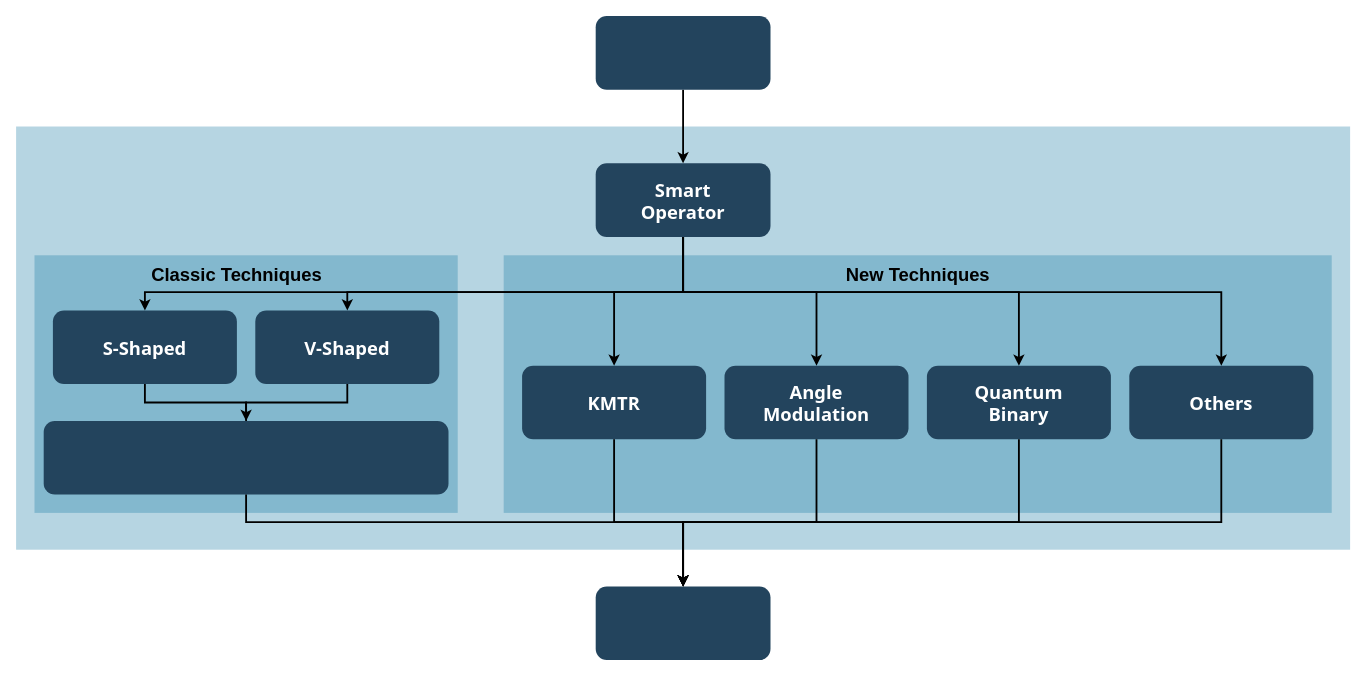
Some shapes in this 1365 by 675 pixel diagram are drawn without their labels. Each missing label, with the box of its shape:
INPUT: (595, 16, 770, 89)
Method of Binarization: Standard, Complement, Static Probability and Elitist: (43, 420, 448, 494)
OUTPUT: (595, 586, 770, 660)
